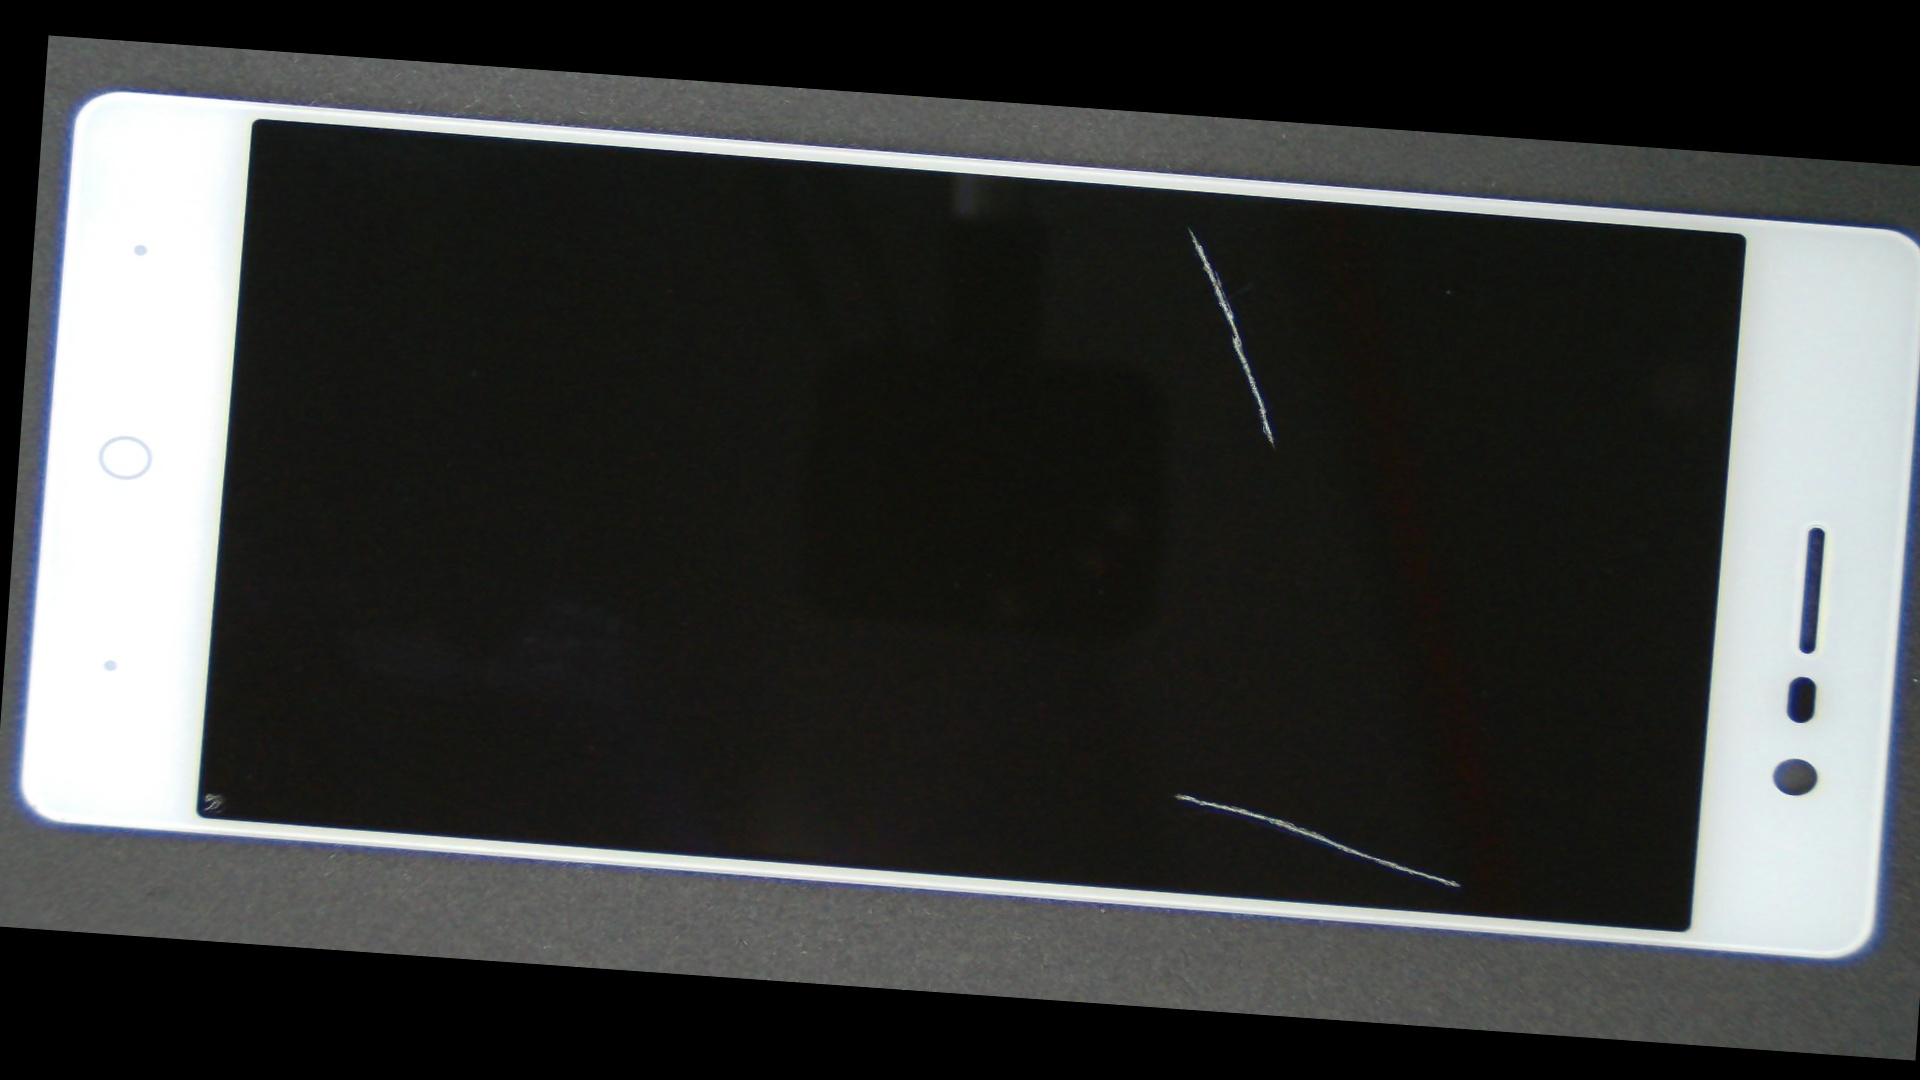oil: (575, 414, 1785, 1048), (611, 132, 1764, 326), (94, 414, 342, 948)
